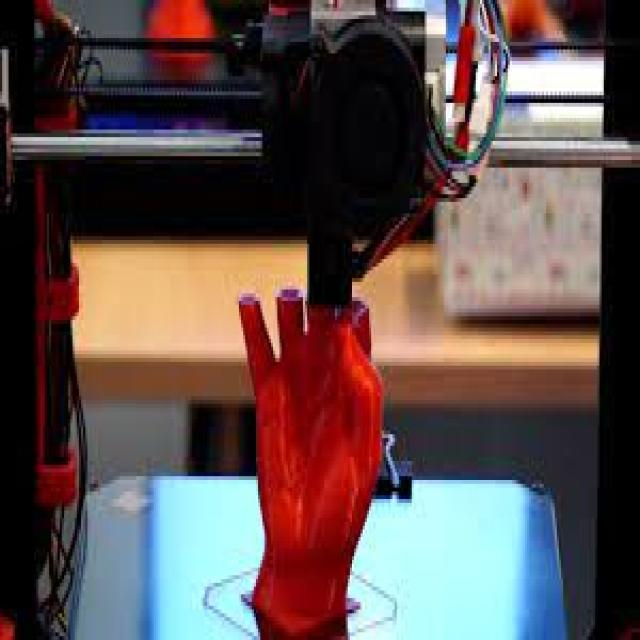Without deffect: (211, 282, 401, 640)
